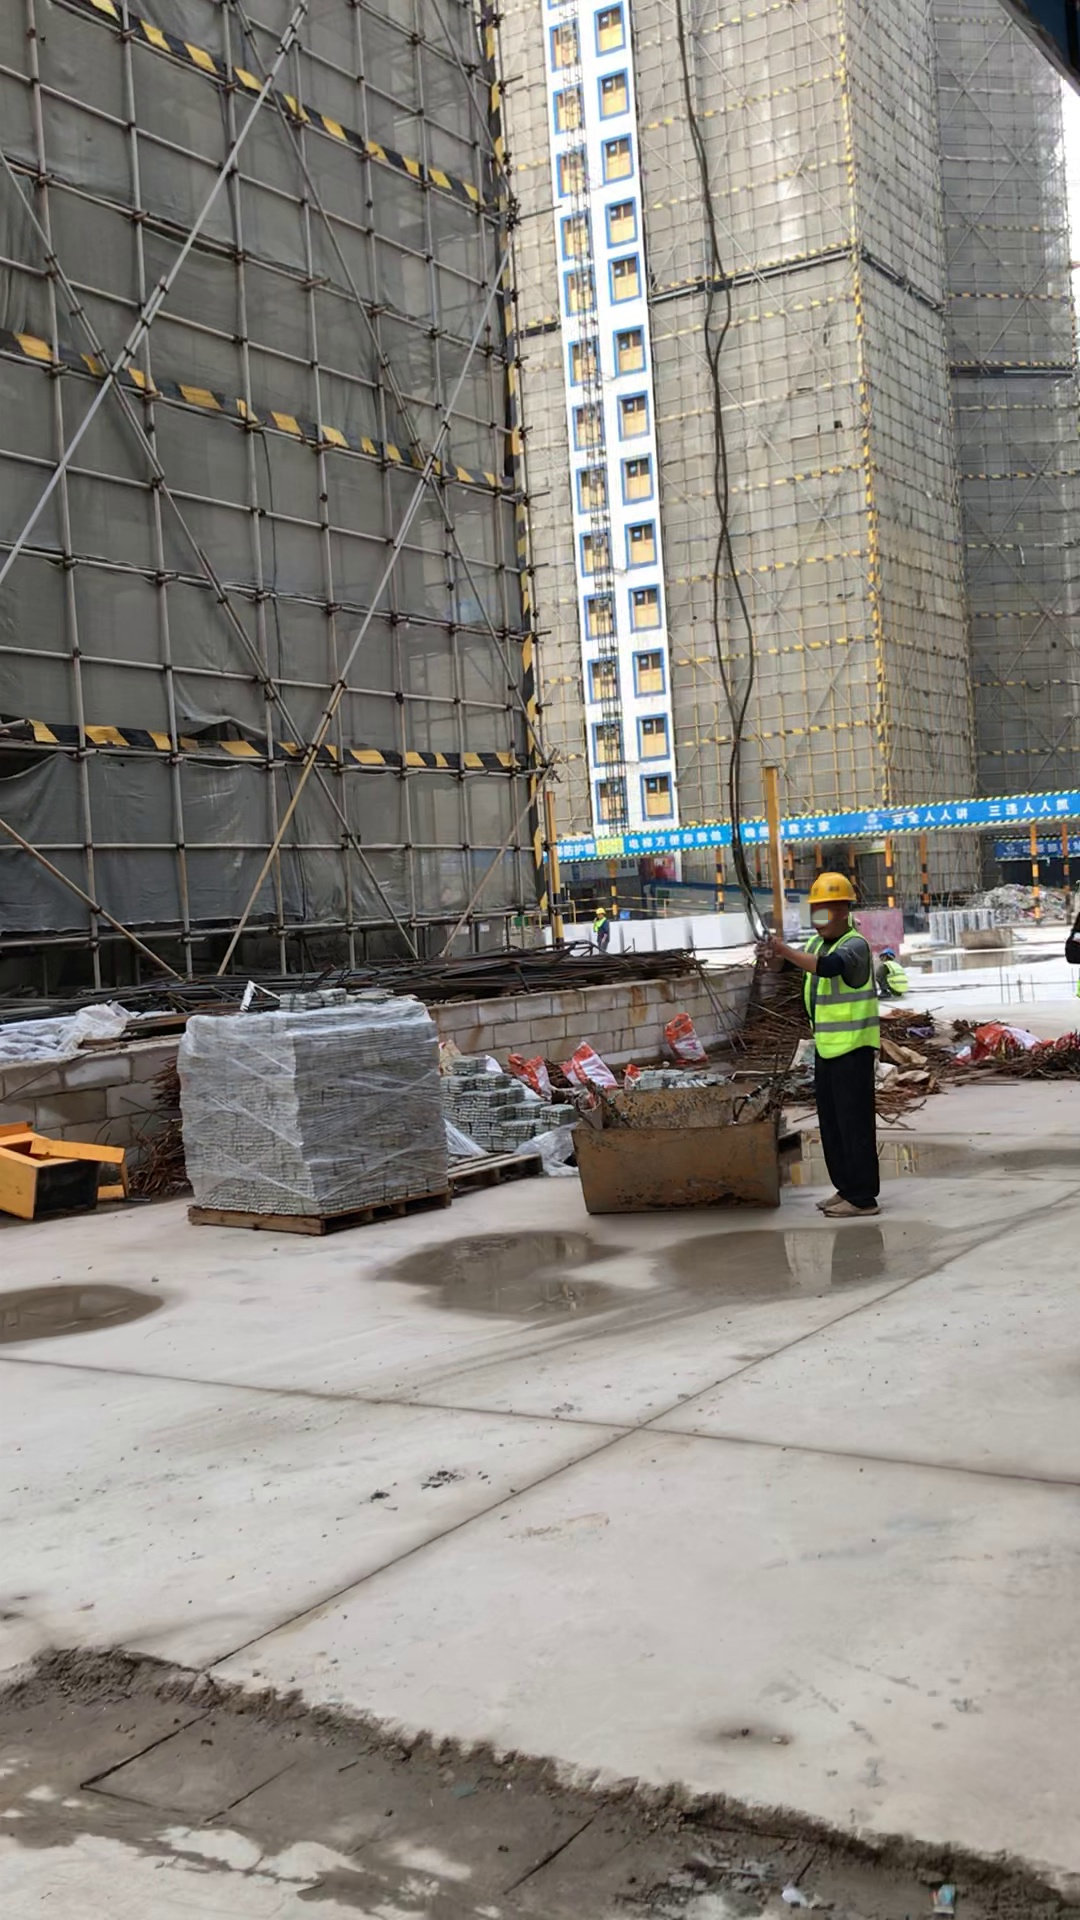helmet: (804, 868, 860, 902)
hopper: (568, 1070, 803, 1220)
person: (775, 865, 910, 1241)
vest: (816, 947, 880, 1059)
